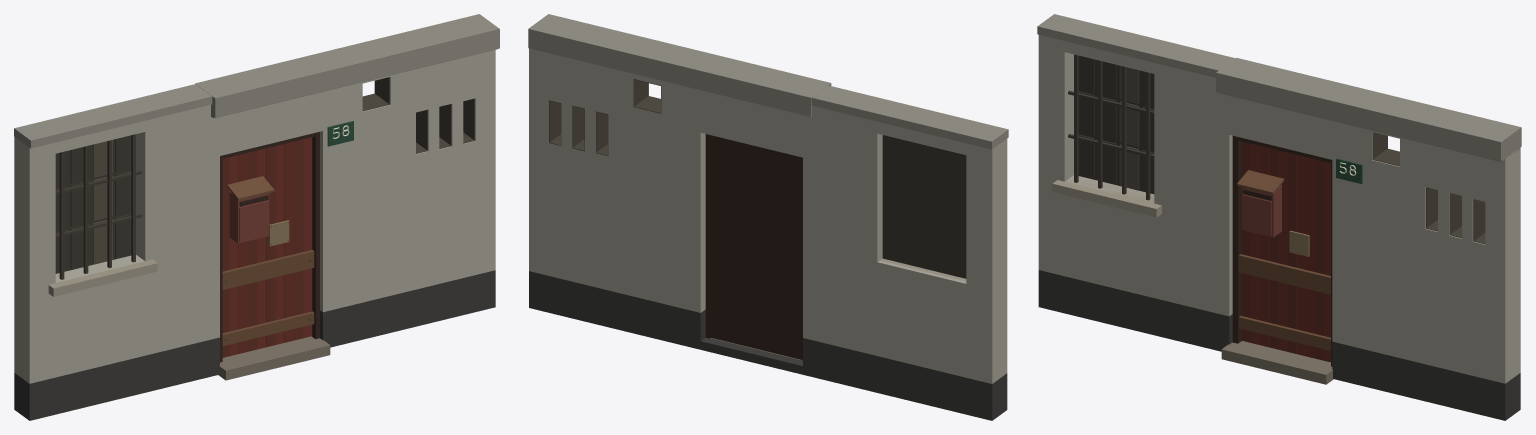
Rendered from yangpu-longjiang-58-courtyard-gate-web.glb.
3 renders of one model, left to right at view 1: azimuth 30°, elevation 25°; view 2: azimuth 150°, elevation 25°; view 3: azimuth 330°, elevation 25°, orthographic.
Visible parts, largest first — view 1: 龙江路58号住宅院门、门牌与院墙通气孔; view 2: 龙江路58号住宅院门、门牌与院墙通气孔; view 3: 龙江路58号住宅院门、门牌与院墙通气孔.
Boxes of the visible parts, x1,y1,x2,y2 form: 龙江路58号住宅院门、门牌与院墙通气孔: (14, 14, 499, 420); 龙江路58号住宅院门、门牌与院墙通气孔: (528, 14, 1008, 420); 龙江路58号住宅院门、门牌与院墙通气孔: (1037, 14, 1521, 420).
Bounding box in the file's own units: 4.56 × 2.64 × 0.389.
